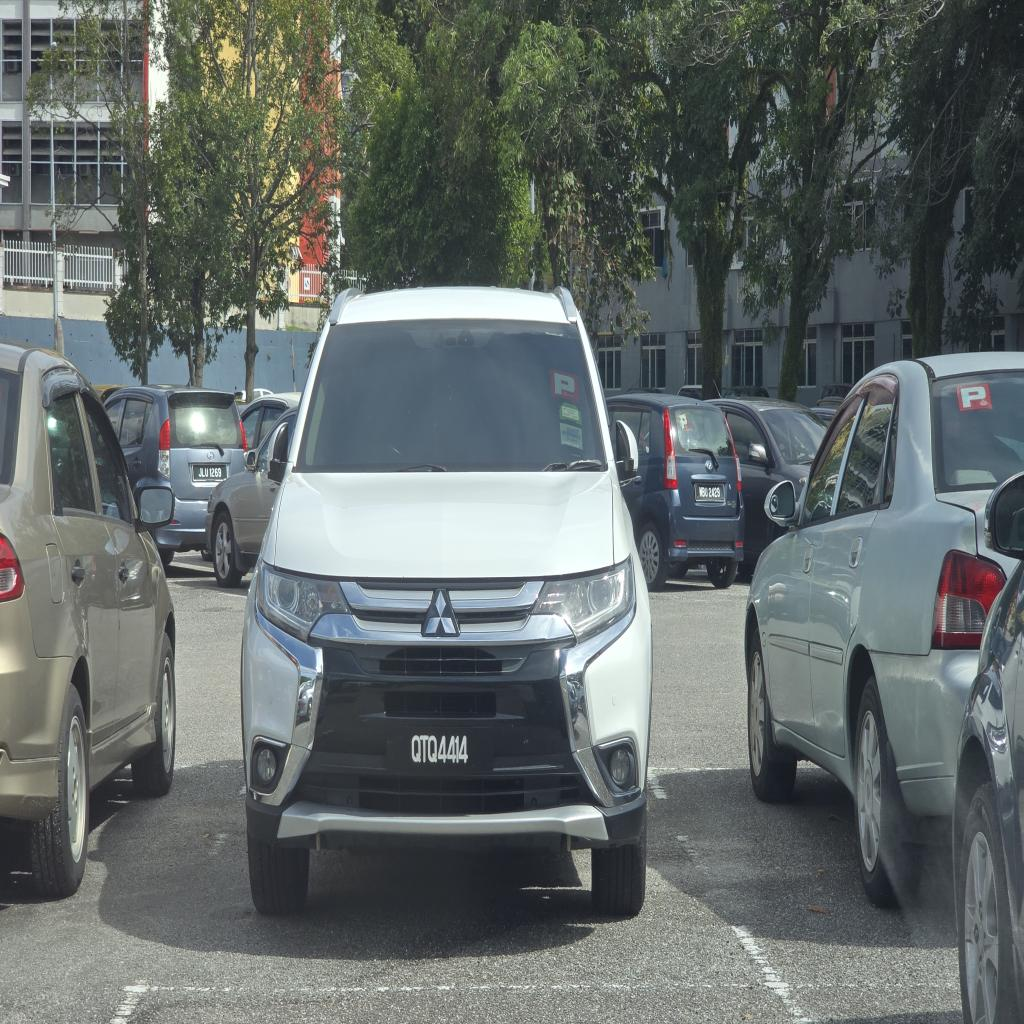car: (242, 288, 652, 914)
car plate: (388, 728, 492, 773)
